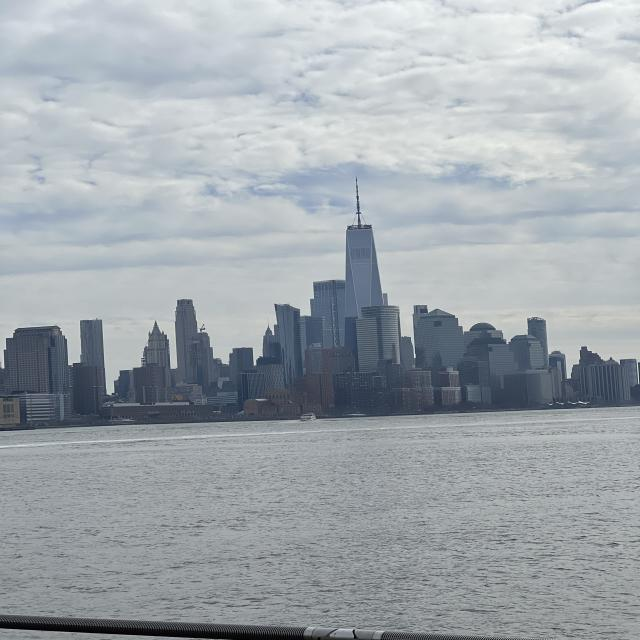WTC: (342, 175, 384, 305)
